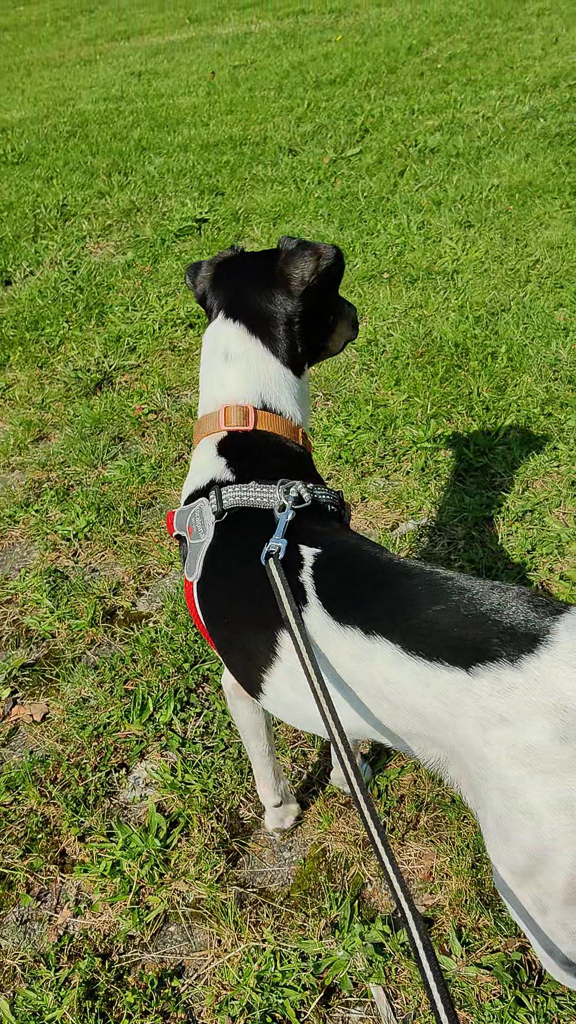Dog: (152, 222, 576, 1017)
